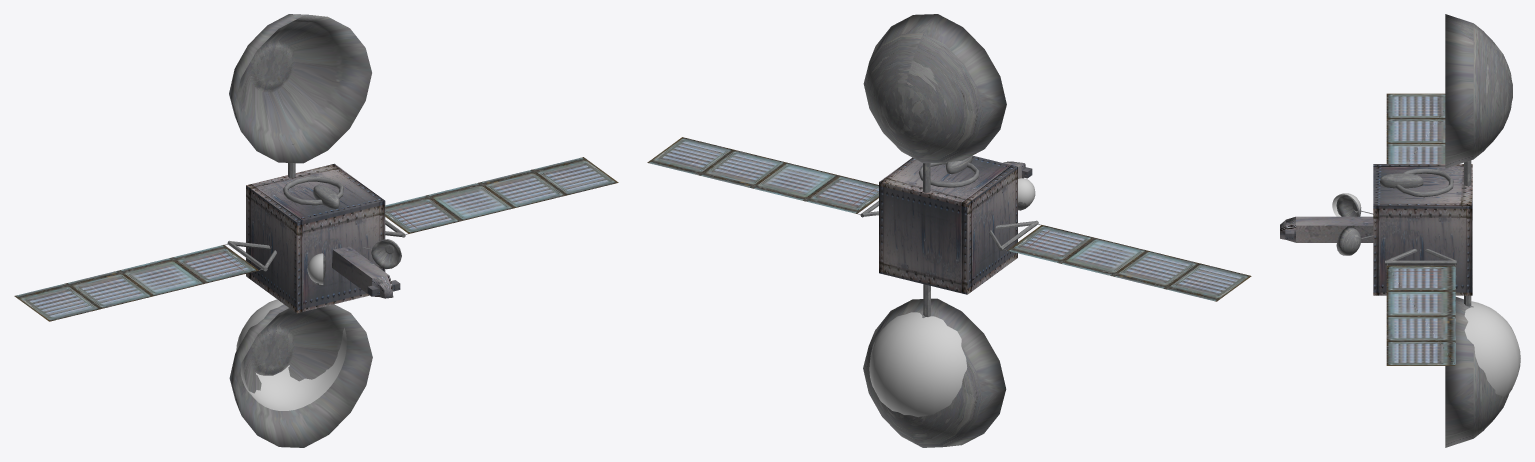
File: satellite.obj
3 renders of one model, left to right at view 1: azimuth 30°, elevation 25°; view 2: azimuth 150°, elevation 25°; view 3: azimuth 270°, elevation 25°, orthographic. The views are drawn at different scales.
Parts seen in each view (by area): view 1: pasted__pCylinder3 group5, body, pasted__pasted__pCylinder3 pasted__group5 group6, pasted__platte group, platte, empfang_unten pasted__empfang, pCylinder1, pasted__pasted__pasted__pCylinder3 pasted__pasted__group5 pasted, ring_body; view 2: pasted__pCylinder3 group5, body, pasted__pasted__pCylinder3 pasted__group5 group6, empfang_unten pasted__empfang, pasted__platte group, platte; view 3: body, pasted__pCylinder3 group5, platte, pasted__pasted__pCylinder3 pasted__group5 group6, pasted__platte group, empfang_unten pasted__empfang, pCylinder1, ring_body, pasted__pasted__pasted__pCylinder3 pasted__pasted__group5 pasted, fest_body, pasted__pasted__pCylinder3 pasted__group5 group7, pasted__rohr_quer rohr_diagonal.
Part boxes in pixels (<box>): pasted__pCylinder3 group5: <box>229,14,371,163</box>; body: <box>246,163,385,313</box>; pasted__pasted__pCylinder3 pasted__group5 group6: <box>229,304,372,447</box>; pasted__platte group: <box>14,245,258,321</box>; platte: <box>385,157,618,233</box>; empfang_unten pasted__empfang: <box>236,299,346,410</box>; pCylinder1: <box>332,246,393,298</box>; pasted__pasted__pasted__pCylinder3 pasted__pasted__group5 pasted: <box>371,239,401,269</box>; ring_body: <box>283,176,343,205</box>; pasted__pCylinder3 group5: <box>863,14,1006,163</box>; body: <box>879,156,1017,294</box>; pasted__pasted__pCylinder3 pasted__group5 group6: <box>863,298,1006,447</box>; empfang_unten pasted__empfang: <box>869,312,967,417</box>; pasted__platte group: <box>1007,225,1251,301</box>; platte: <box>647,137,878,213</box>; body: <box>1373,164,1472,295</box>; pasted__pCylinder3 group5: <box>1445,14,1512,168</box>; platte: <box>1386,265,1455,365</box>; pasted__pasted__pCylinder3 pasted__group5 group6: <box>1445,297,1508,447</box>; pasted__platte group: <box>1386,93,1445,163</box>; empfang_unten pasted__empfang: <box>1464,301,1520,396</box>; pCylinder1: <box>1280,216,1373,242</box>; ring_body: <box>1395,168,1453,197</box>; pasted__pasted__pasted__pCylinder3 pasted__pasted__group5 pasted: <box>1336,226,1361,255</box>; fest_body: <box>1380,173,1423,188</box>; pasted__pasted__pCylinder3 pasted__group5 group7: <box>1336,195,1361,216</box>; pasted__rohr_quer rohr_diagonal: <box>1385,260,1456,264</box>.
Bounding box in the file's own units: 38.92 × 28.22 × 14.53.
